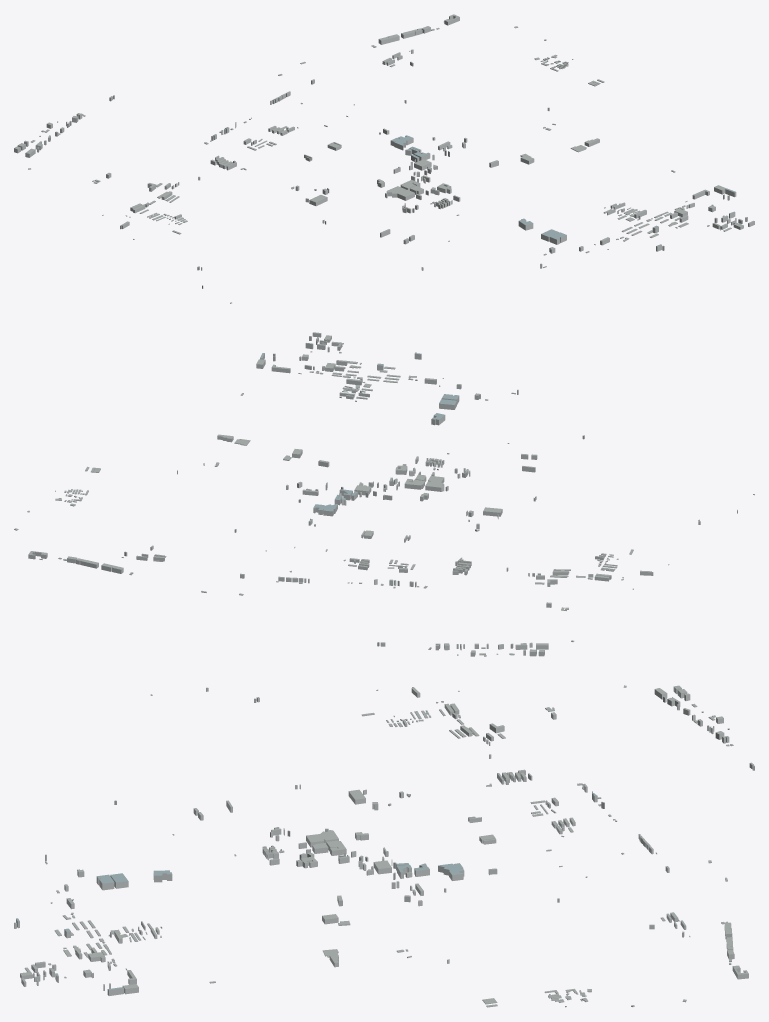
File: far.glb
3 views of the same model, one above another, from view 1: azimuth 30°, elevation 25°; view 2: azimuth 150°, elevation 25°; view 3: azimuth 270°, elevation 25° (orthographic). The views are drawn at different scales.
Bounding box in the file's own units: 2106 × 20.45 × 2052.
